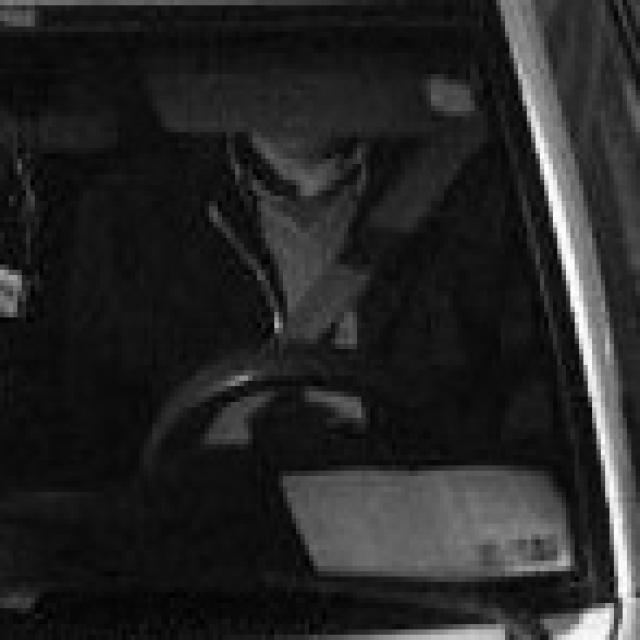Seatbelt: (274, 111, 462, 354)
